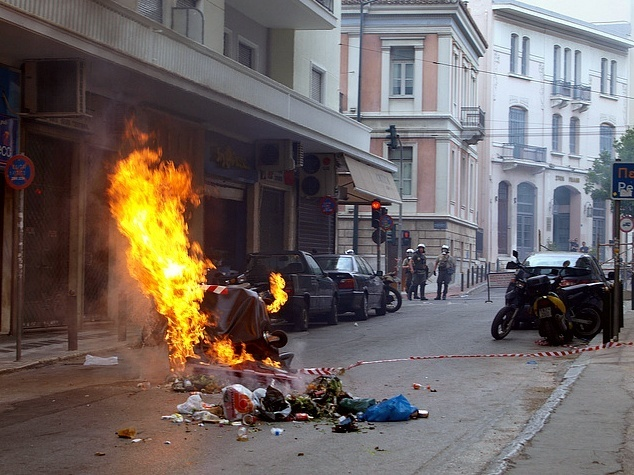fire: (104, 119, 291, 373), (264, 268, 289, 313)
